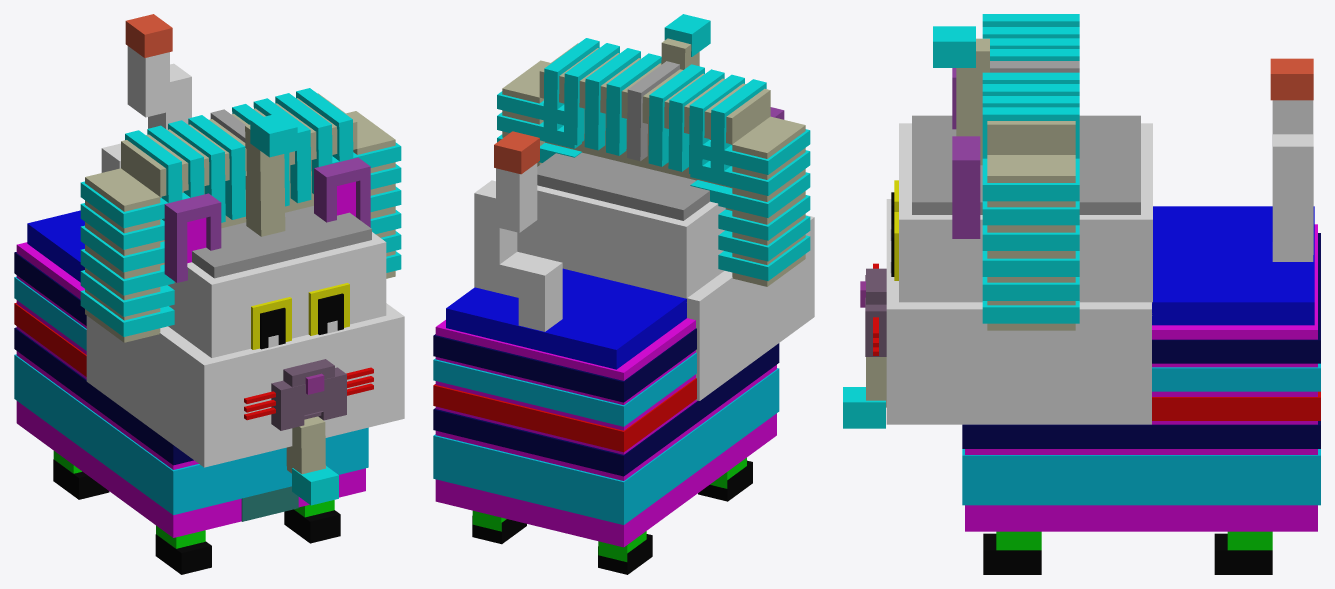
The model's file is King_Tut.fbx.
3 renders of one model, left to right at view 1: azimuth 30°, elevation 25°; view 2: azimuth 150°, elevation 25°; view 3: azimuth 270°, elevation 25°, orthographic. The views are drawn at different scales.
Visible parts, largest first — view 1: head, body_base6, pCube19, body_base, body_small1, tail, body_small2, body_base5, pCube41, body_small3, pCube9, body_small (+35 smaller); view 2: head, body_base, body_base6, body_small, pCube19, tail, body_base5, body_small1, body_base2, body_base4, body_base3, pCube32 (+23 smaller); view 3: head, body_base6, body_small, body_base, body_small1, pCube19, body_base5, tail, body_base2, body_base3, body_base4, body_small3 (+26 smaller).
Boxes of the visible parts, box(x1,y1,x2,y2) form: head: box(86, 232, 404, 467); body_base6: box(14, 354, 368, 515); pCube19: box(85, 93, 395, 342); body_base: box(16, 242, 365, 537); body_small1: box(192, 206, 371, 278); tail: box(101, 46, 191, 172); body_small2: box(164, 193, 221, 282); body_base5: box(14, 327, 193, 465); pCube41: box(245, 124, 285, 236); body_small3: box(314, 157, 370, 227); pCube9: box(271, 367, 346, 430); body_small: box(27, 210, 84, 282); head: box(517, 185, 814, 400); body_base: box(435, 318, 776, 547); body_base6: box(433, 368, 779, 524); body_small: box(446, 268, 686, 369); pCube19: box(502, 43, 805, 286); tail: box(474, 163, 562, 331); body_base5: box(433, 343, 779, 476); body_small1: box(537, 152, 709, 220); body_base2: box(433, 328, 696, 402); body_base4: box(433, 378, 696, 452); body_base3: box(433, 352, 696, 426); pCube32: box(584, 48, 640, 150); head: box(886, 123, 1152, 424); body_base6: box(962, 449, 1320, 505); body_small: box(1152, 206, 1314, 325); body_base: box(965, 224, 1317, 531); body_small1: box(912, 115, 1140, 214); pCube19: box(987, 121, 1075, 330); body_base5: box(962, 421, 1320, 448); tail: box(1272, 100, 1313, 261); body_base2: box(1152, 233, 1320, 363); body_base3: box(1152, 363, 1320, 391); body_base4: box(1152, 391, 1320, 420); body_small3: box(952, 136, 980, 238).
Bounding box in the file's own units: 0.9872 × 1.5 × 1.31.
